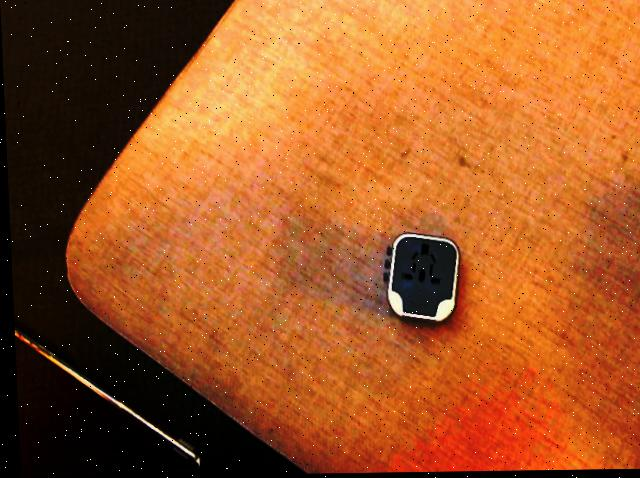adapter: (379, 232, 459, 324)
